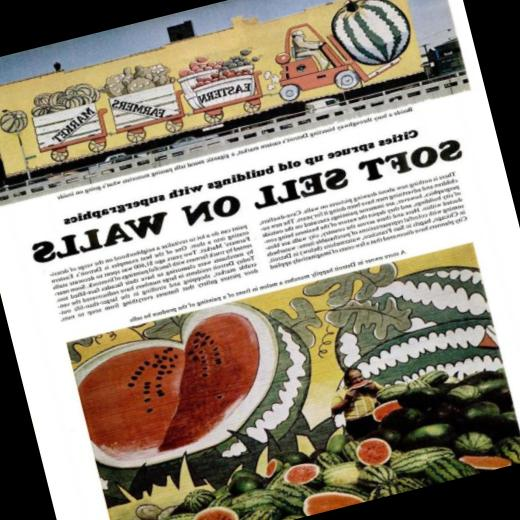Cherry: (64, 238, 520, 520), (327, 0, 417, 74)
